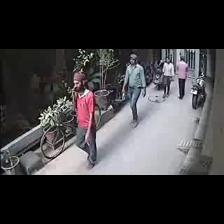person: (73, 73, 96, 169), (122, 54, 146, 127), (178, 56, 188, 99), (163, 58, 174, 97)
